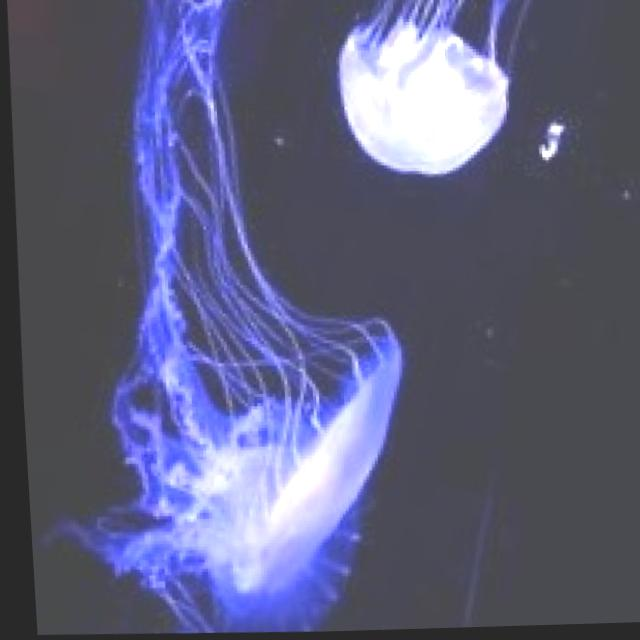Box-jellyfish: (19, 0, 421, 640), (330, 0, 555, 182)
